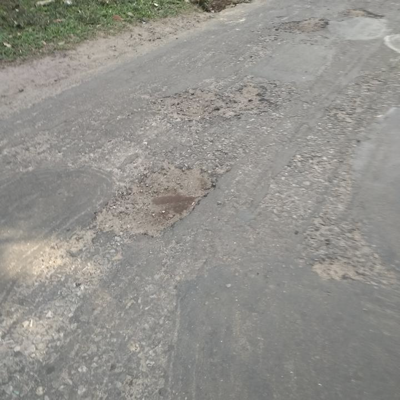pothole: (89, 160, 220, 241), (150, 84, 278, 122), (273, 15, 330, 37), (344, 7, 385, 22)
